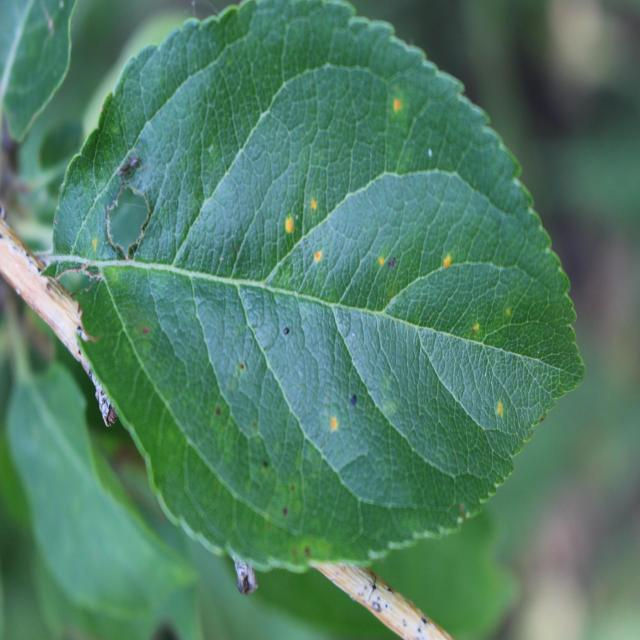Rust: (388, 85, 408, 129), (432, 245, 456, 276), (321, 411, 344, 438), (306, 247, 333, 269), (280, 209, 294, 246), (492, 396, 506, 426), (371, 251, 392, 269), (466, 318, 486, 336), (306, 196, 322, 216)
